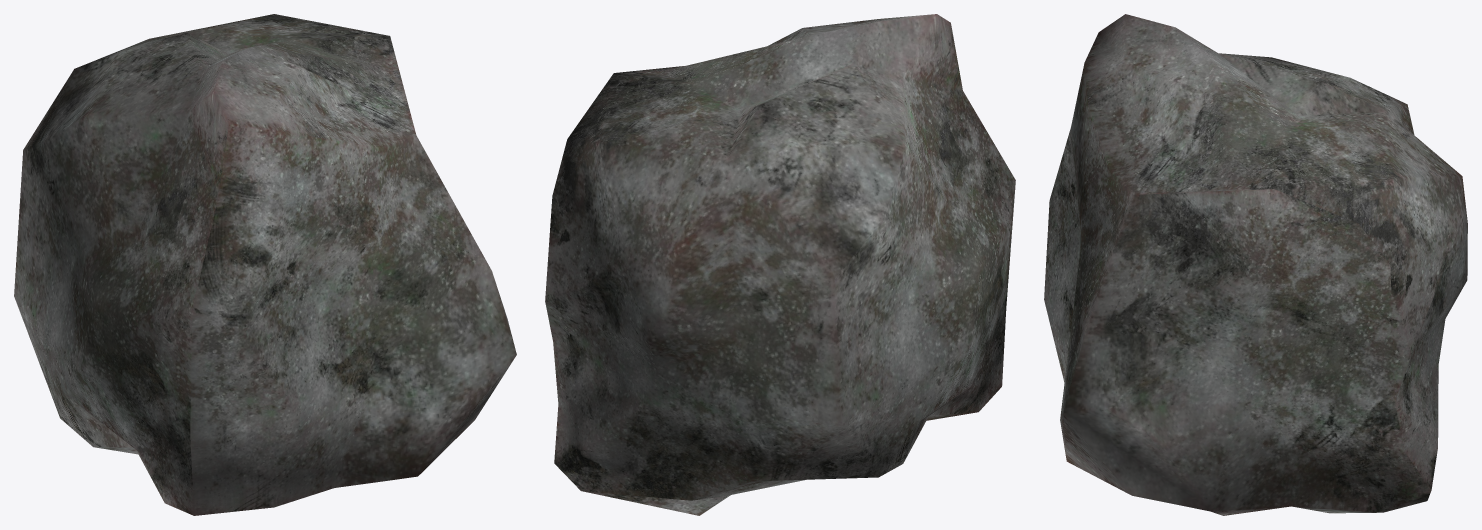
File: rock_lowpoly.glb
3 renders of one model, left to right at view 1: azimuth 30°, elevation 25°; view 2: azimuth 150°, elevation 25°; view 3: azimuth 270°, elevation 25°, orthographic. The views are drawn at different scales.
Visible parts, largest first — view 1: rock_Lowpoly; view 2: rock_Lowpoly; view 3: rock_Lowpoly.
Part boxes in pixels (x1,y1,x2,y2): rock_Lowpoly: [14, 14, 516, 515]; rock_Lowpoly: [545, 14, 1015, 515]; rock_Lowpoly: [1044, 14, 1467, 515].
Size of the model in its own units: 1.65 by 2 by 1.74.
1 material, 1 textured.
